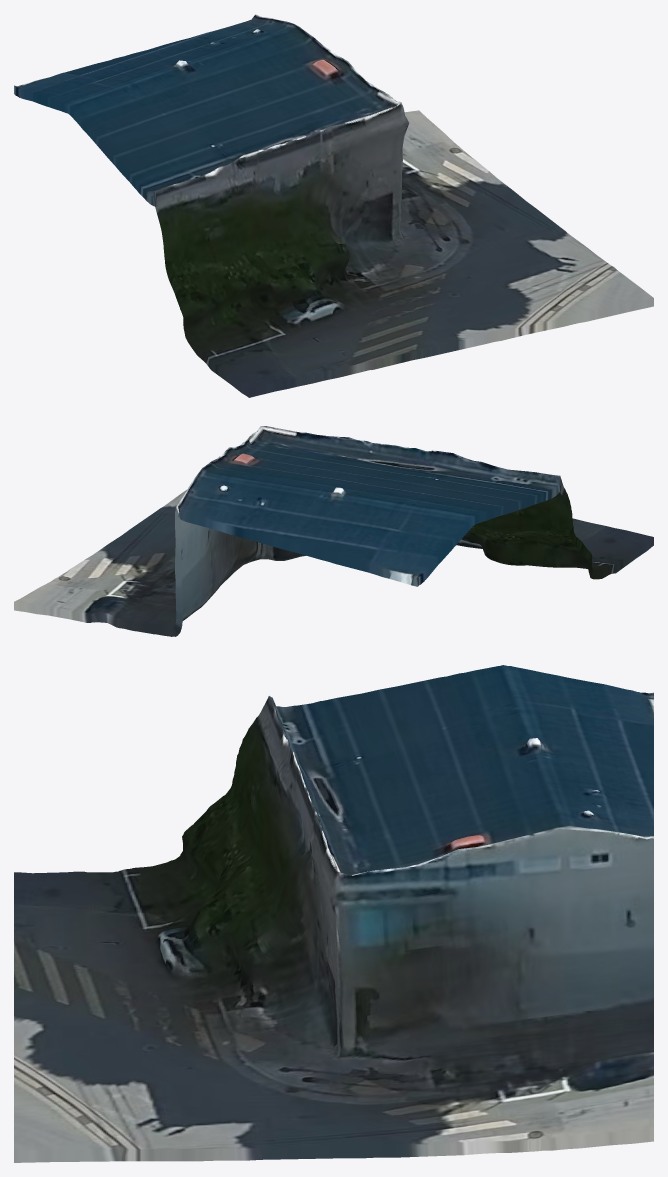
Rendered from z20-167728-405191-h0-yup-uvflip-v3-world.glb.
The picture shows the model from 3 angles, top to bottom: view 1: azimuth 30°, elevation 25°; view 2: azimuth 150°, elevation 25°; view 3: azimuth 270°, elevation 25°; orthographic projection. The views are drawn at different scales.
Size of the model in its own units: 30.16 by 12.4 by 30.32.
Materials: 1 (1 with a texture image).
